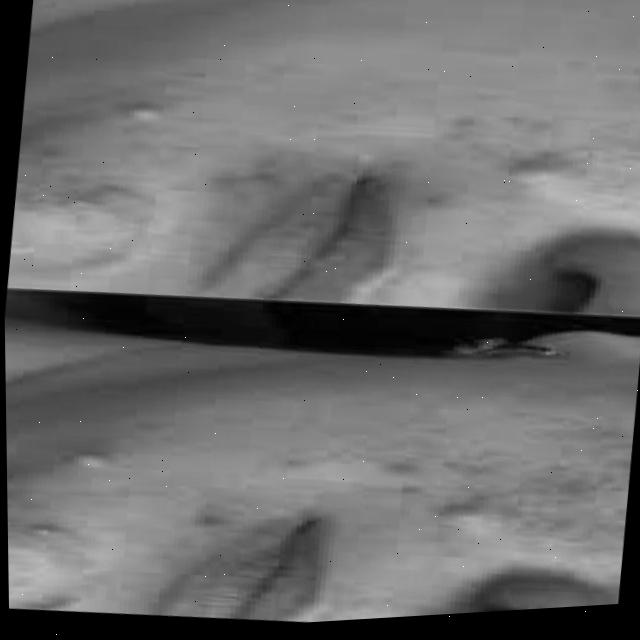Rosacea: (351, 426, 633, 592), (442, 95, 640, 228), (5, 174, 154, 294), (8, 512, 95, 616)
